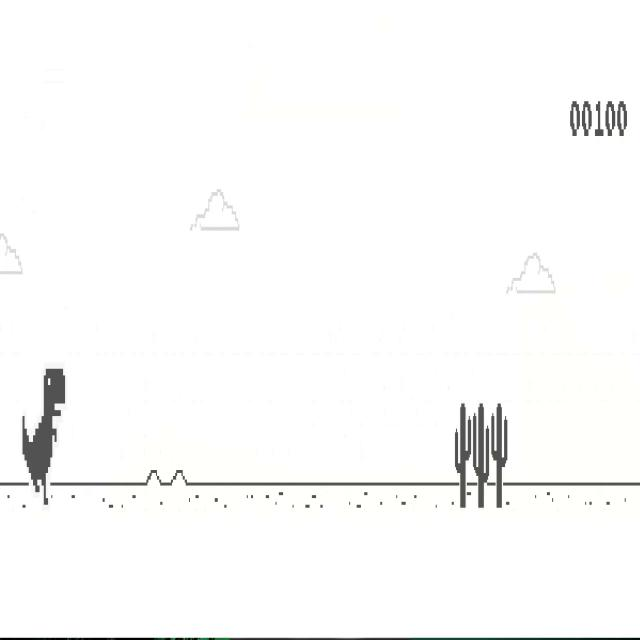cacto: (455, 401, 508, 509)
dino: (22, 368, 66, 507)
